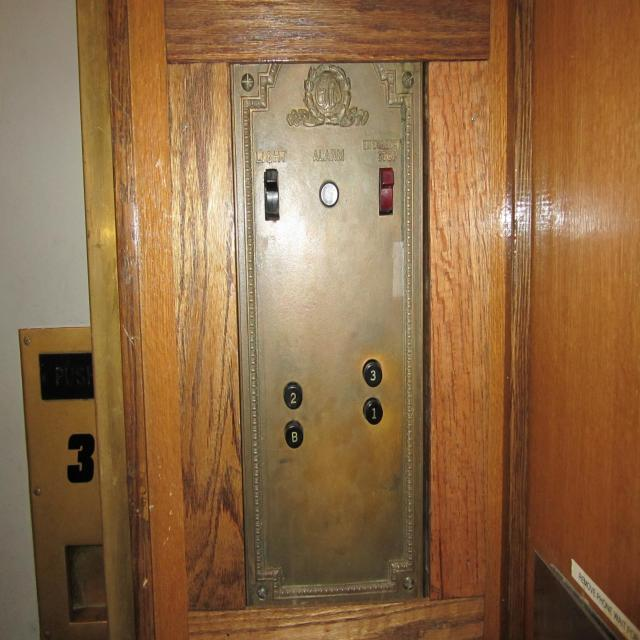1: (363, 396, 383, 425)
2: (282, 380, 304, 410)
3: (361, 358, 383, 387)
B: (284, 419, 304, 448)
empty: (318, 179, 339, 208)
switch: (263, 168, 281, 223), (378, 166, 394, 217)
